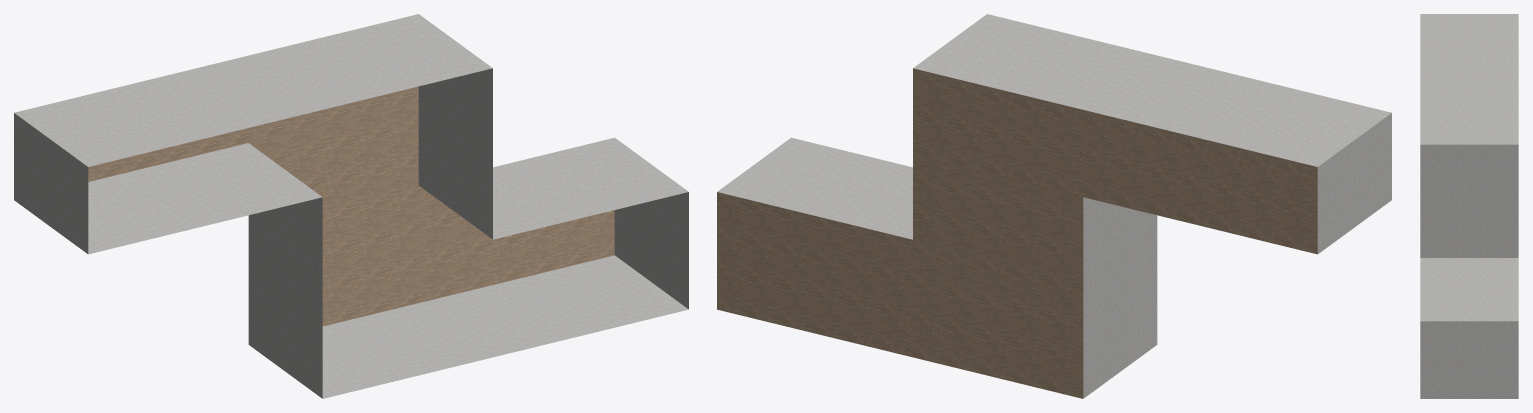
3 views of the same model, side by side, from view 1: azimuth 30°, elevation 25°; view 2: azimuth 150°, elevation 25°; view 3: azimuth 270°, elevation 25° (orthographic). The views are drawn at different scales.
Visible parts, largest first — view 1: walls, floors; view 2: floors, walls; view 3: walls.
Part boxes in pixels (left/top/right/bottom): walls: left=14, top=14, right=688, bottom=398; floors: left=88, top=86, right=614, bottom=326; floors: left=717, top=68, right=1317, bottom=398; walls: left=717, top=14, right=1391, bottom=398; walls: left=1420, top=14, right=1518, bottom=398.
Size of the model in its own units: 0.3652 by 0.168 by 0.0781.
2 materials, 2 textured.
